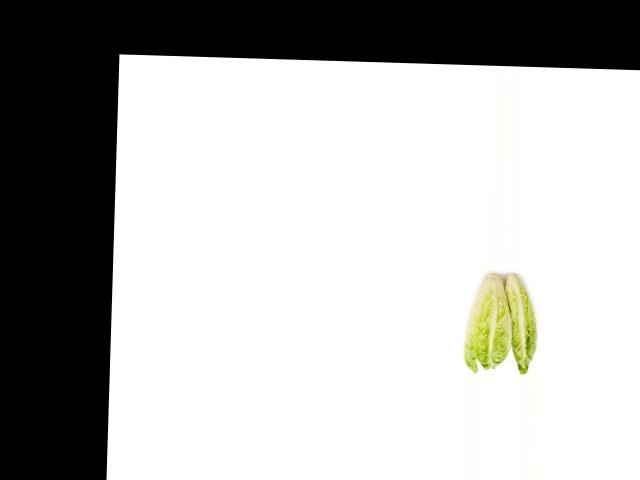lettuce: (500, 266, 549, 376)
